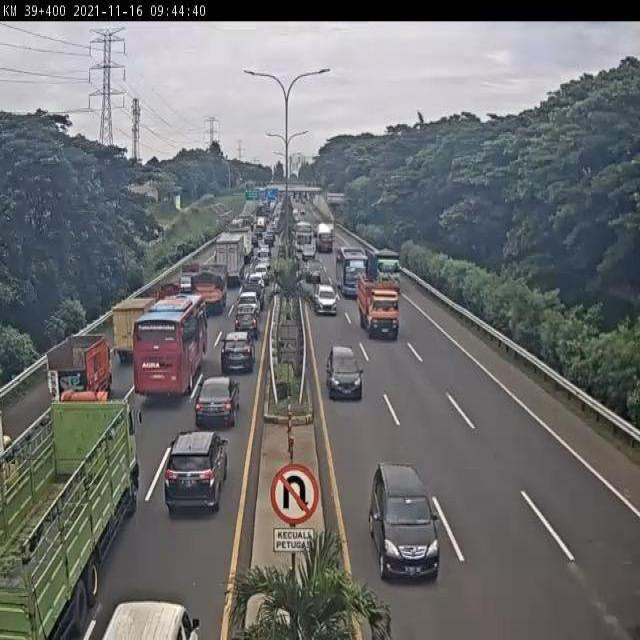big bus: (128, 298, 206, 402), (335, 248, 369, 300)
car: (369, 457, 439, 584), (163, 432, 228, 515), (192, 379, 237, 432), (326, 346, 366, 398), (218, 333, 253, 375), (232, 312, 259, 339), (315, 280, 335, 316), (238, 292, 260, 316)
small truck: (105, 298, 155, 371)
truck-l-: (2, 409, 136, 640), (370, 244, 401, 293)
truck-m-: (49, 335, 119, 408), (361, 279, 400, 332), (191, 265, 227, 316)
